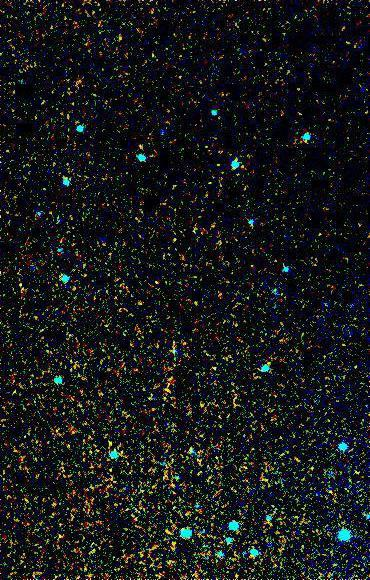star: (126, 131, 156, 161)
